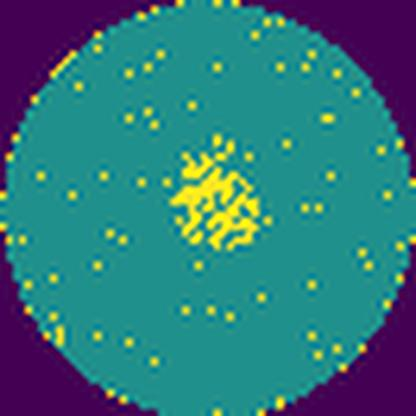Center: (171, 151, 261, 255)
